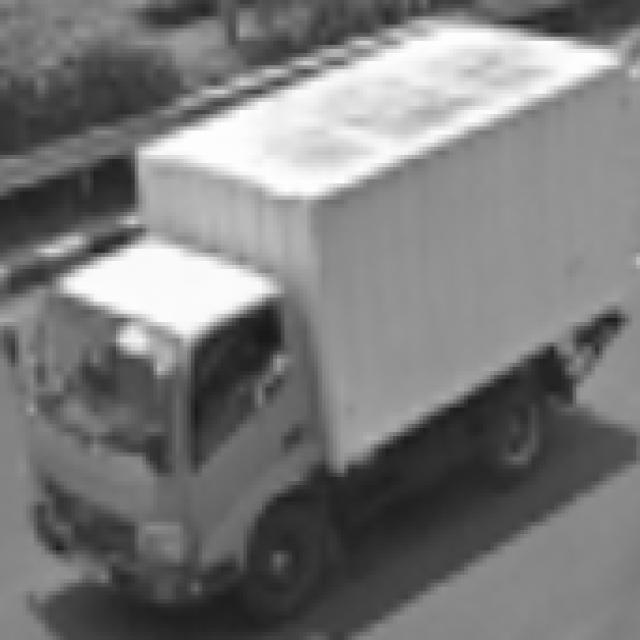truck: (10, 233, 337, 640)
